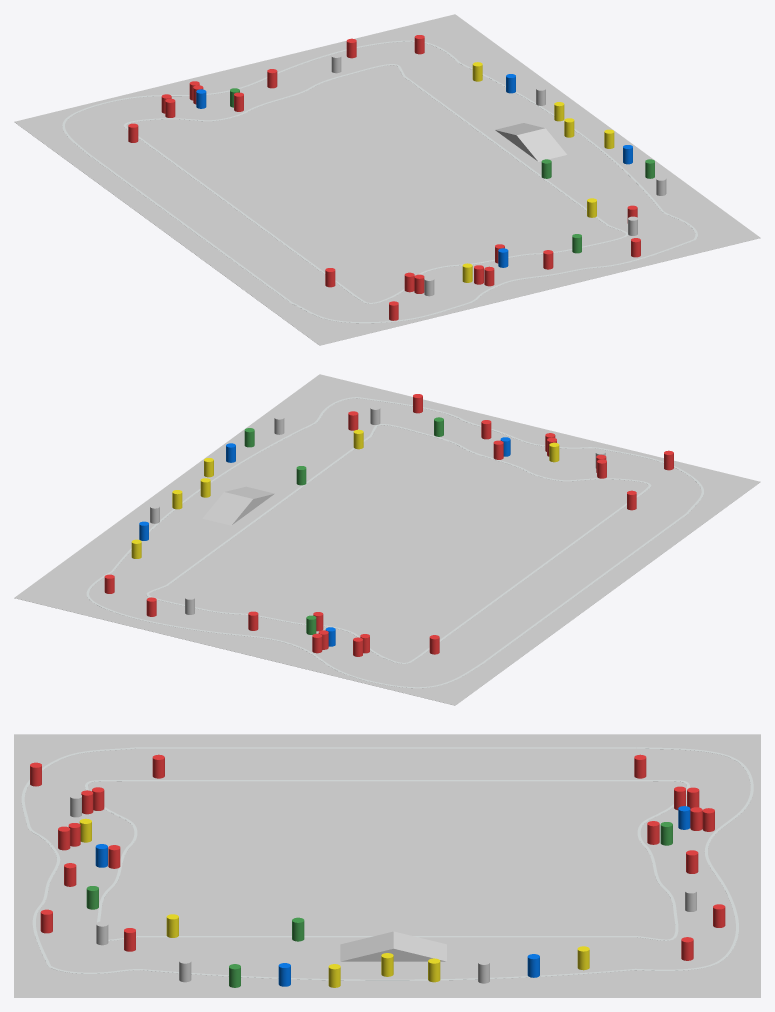
File: world.dae
3 views of the same model, one above another, from view 1: azimuth 30°, elevation 25°; view 2: azimuth 150°, elevation 25°; view 3: azimuth 270°, elevation 25° (orthographic). The views are drawn at different scales.
Visible parts, largest first — view 1: node_87efb7e9_5097_44b0_9f87_2cb601daad26_mesh3, node_87efb7e9_5097_44b0_9f87_2cb601daad26_mesh4, node_87efb7e9_5097_44b0_9f87_2cb601daad26_mesh1, node_87efb7e9_5097_44b0_9f87_2cb601daad26_mesh5, node_87efb7e9_5097_44b0_9f87_2cb601daad26_mesh0, node_87efb7e9_5097_44b0_9f87_2cb601daad26_mesh2; view 2: node_87efb7e9_5097_44b0_9f87_2cb601daad26_mesh3, node_87efb7e9_5097_44b0_9f87_2cb601daad26_mesh4, node_87efb7e9_5097_44b0_9f87_2cb601daad26_mesh1, node_87efb7e9_5097_44b0_9f87_2cb601daad26_mesh5, node_87efb7e9_5097_44b0_9f87_2cb601daad26_mesh2, node_87efb7e9_5097_44b0_9f87_2cb601daad26_mesh0; view 3: node_87efb7e9_5097_44b0_9f87_2cb601daad26_mesh3, node_87efb7e9_5097_44b0_9f87_2cb601daad26_mesh4, node_87efb7e9_5097_44b0_9f87_2cb601daad26_mesh1, node_87efb7e9_5097_44b0_9f87_2cb601daad26_mesh5, node_87efb7e9_5097_44b0_9f87_2cb601daad26_mesh0, node_87efb7e9_5097_44b0_9f87_2cb601daad26_mesh2.
Boxes of the visible parts, bbox=[...] form: node_87efb7e9_5097_44b0_9f87_2cb601daad26_mesh3: bbox=[14, 14, 760, 345]; node_87efb7e9_5097_44b0_9f87_2cb601daad26_mesh4: bbox=[62, 40, 697, 323]; node_87efb7e9_5097_44b0_9f87_2cb601daad26_mesh1: bbox=[128, 35, 640, 320]; node_87efb7e9_5097_44b0_9f87_2cb601daad26_mesh5: bbox=[462, 62, 614, 282]; node_87efb7e9_5097_44b0_9f87_2cb601daad26_mesh0: bbox=[196, 74, 632, 267]; node_87efb7e9_5097_44b0_9f87_2cb601daad26_mesh2: bbox=[230, 88, 654, 253]; node_87efb7e9_5097_44b0_9f87_2cb601daad26_mesh3: bbox=[14, 374, 760, 705]; node_87efb7e9_5097_44b0_9f87_2cb601daad26_mesh4: bbox=[86, 397, 703, 688]; node_87efb7e9_5097_44b0_9f87_2cb601daad26_mesh1: bbox=[104, 394, 673, 656]; node_87efb7e9_5097_44b0_9f87_2cb601daad26_mesh5: bbox=[131, 429, 559, 558]; node_87efb7e9_5097_44b0_9f87_2cb601daad26_mesh2: bbox=[244, 417, 443, 634]; node_87efb7e9_5097_44b0_9f87_2cb601daad26_mesh0: bbox=[139, 437, 510, 646]; node_87efb7e9_5097_44b0_9f87_2cb601daad26_mesh3: bbox=[14, 734, 760, 997]; node_87efb7e9_5097_44b0_9f87_2cb601daad26_mesh4: bbox=[21, 747, 753, 980]; node_87efb7e9_5097_44b0_9f87_2cb601daad26_mesh1: bbox=[30, 754, 725, 960]; node_87efb7e9_5097_44b0_9f87_2cb601daad26_mesh5: bbox=[79, 818, 589, 987]; node_87efb7e9_5097_44b0_9f87_2cb601daad26_mesh0: bbox=[95, 806, 690, 986]; node_87efb7e9_5097_44b0_9f87_2cb601daad26_mesh2: bbox=[86, 822, 672, 987].
Size of the model in its own units: 30480 by 36576 by 1018.
